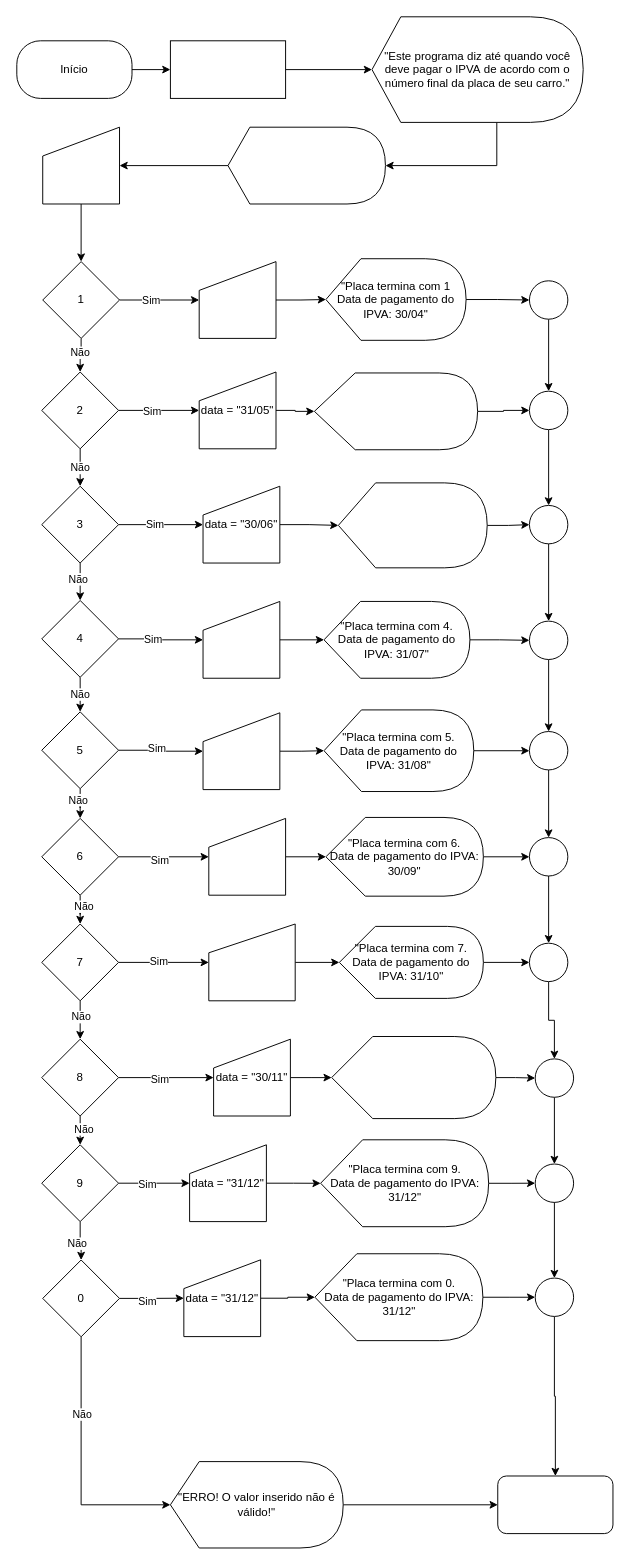
Image size: 630x1565. Some labels were removed from this diagram. The shapes that lost their labels are listed below. From the top down, each one's box as (x1, y1, x2, y2) in pixels, then its label:
(169, 40, 286, 98): final_placa como int; data como String;
(42, 126, 120, 204): final_placa
(227, 126, 385, 204): "Número final da placa do carro(0 à 9): "
(198, 261, 276, 338): data = "30/04"
(313, 372, 478, 450): "Placa termina com 2. Data de pagamento do IPVA: 31/05"
(337, 482, 487, 568): "Placa termina com 3. Data de pagamento do IPVA: 30/06"
(202, 600, 280, 678): data = "31/07"
(202, 712, 280, 790): data = "31/08"
(208, 817, 286, 895): data = "30/09"
(208, 923, 295, 1001): data = "31/10"
(331, 1036, 496, 1119): "Placa termina com 8. Data de pagamento do IPVA: 30/11"
(497, 1475, 613, 1534): Fim
